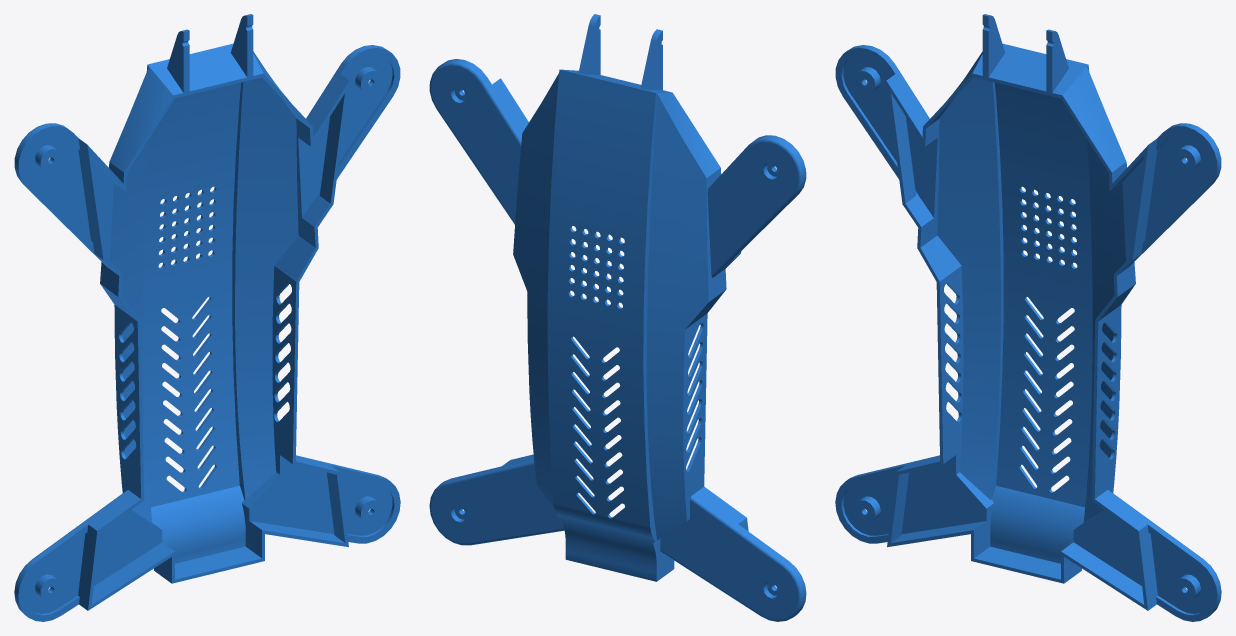
Rendered from Main frame.gltf.
The picture shows the model from 3 angles, left to right: view 1: azimuth 30°, elevation 25°; view 2: azimuth 150°, elevation 25°; view 3: azimuth 330°, elevation 25°; orthographic projection. The views are drawn at different scales.
Parts seen in each view (by area): view 1: Solid1; view 2: Solid1; view 3: Solid1.
Boxes of the visible parts, x1,y1,x2,y2 form: Solid1: (14,14,400,621); Solid1: (429,14,806,621); Solid1: (835,14,1221,621).
Bounding box in the file's own units: 0.123 × 0.1737 × 0.019.
